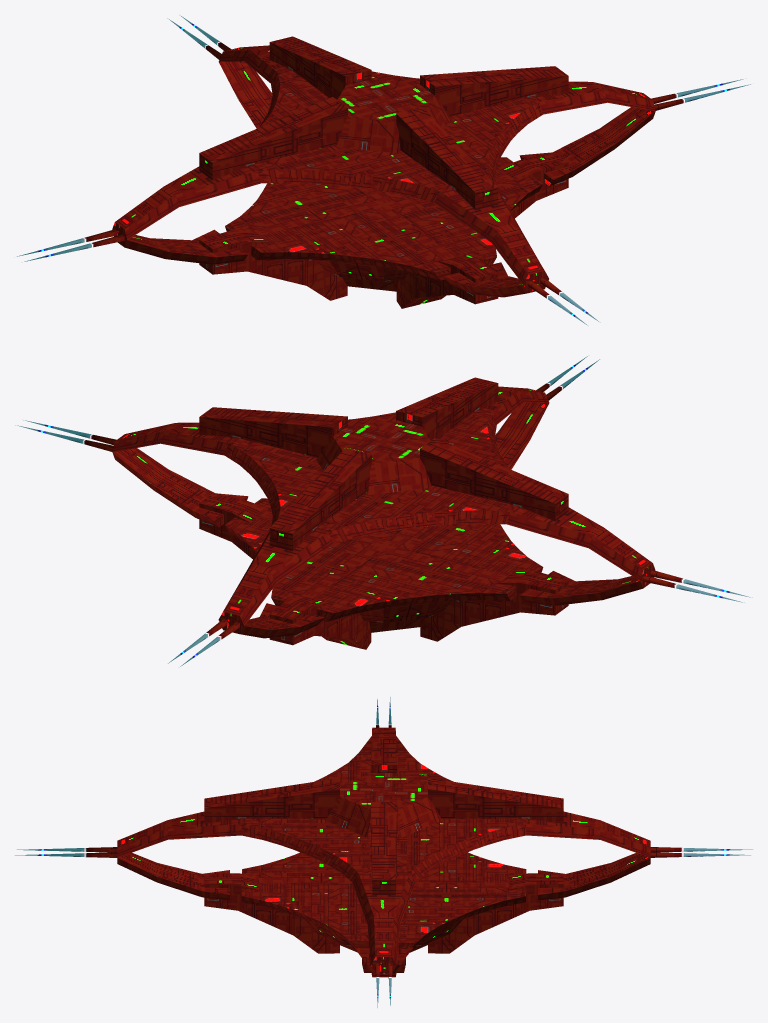
File: Vul_Large_Turret.fbx
3 renders of one model, top to bottom at view 1: azimuth 30°, elevation 25°; view 2: azimuth 150°, elevation 25°; view 3: azimuth 270°, elevation 25°, orthographic. The views are drawn at different scales.
Visible parts, largest first — view 1: Vul_Large_Turret; view 2: Vul_Large_Turret; view 3: Vul_Large_Turret.
Part boxes in pixels (<box>): Vul_Large_Turret: <box>17,15,750,325</box>; Vul_Large_Turret: <box>15,356,752,666</box>; Vul_Large_Turret: <box>15,697,752,1007</box>.
Bounding box in the file's own units: 400 × 98.15 × 400.
1 material, 1 textured.
